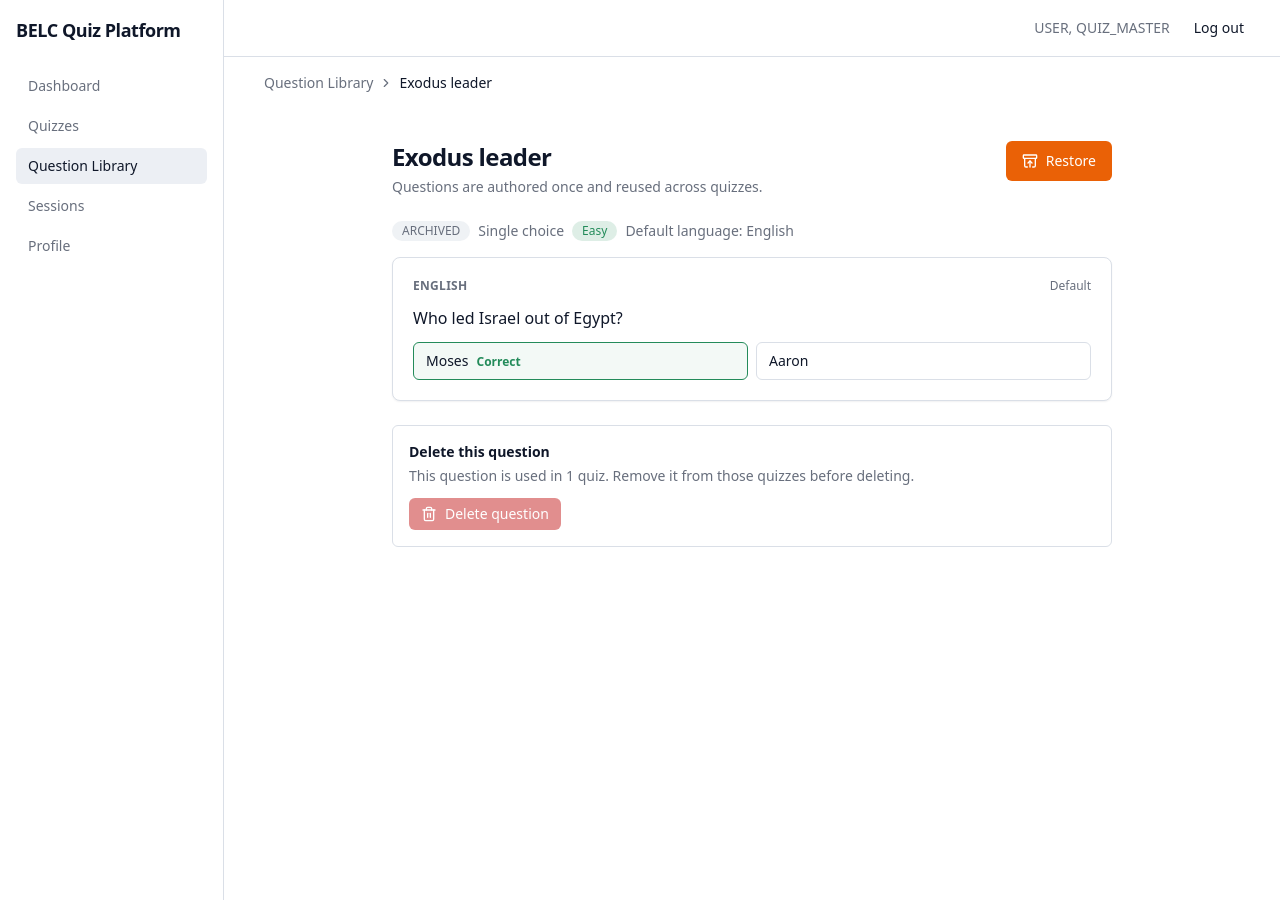
it: QuestionDetailPage › restores an archived question in place — same id, no copy
Click the button "Restore": (1059, 161) [1006,141,1112,181]
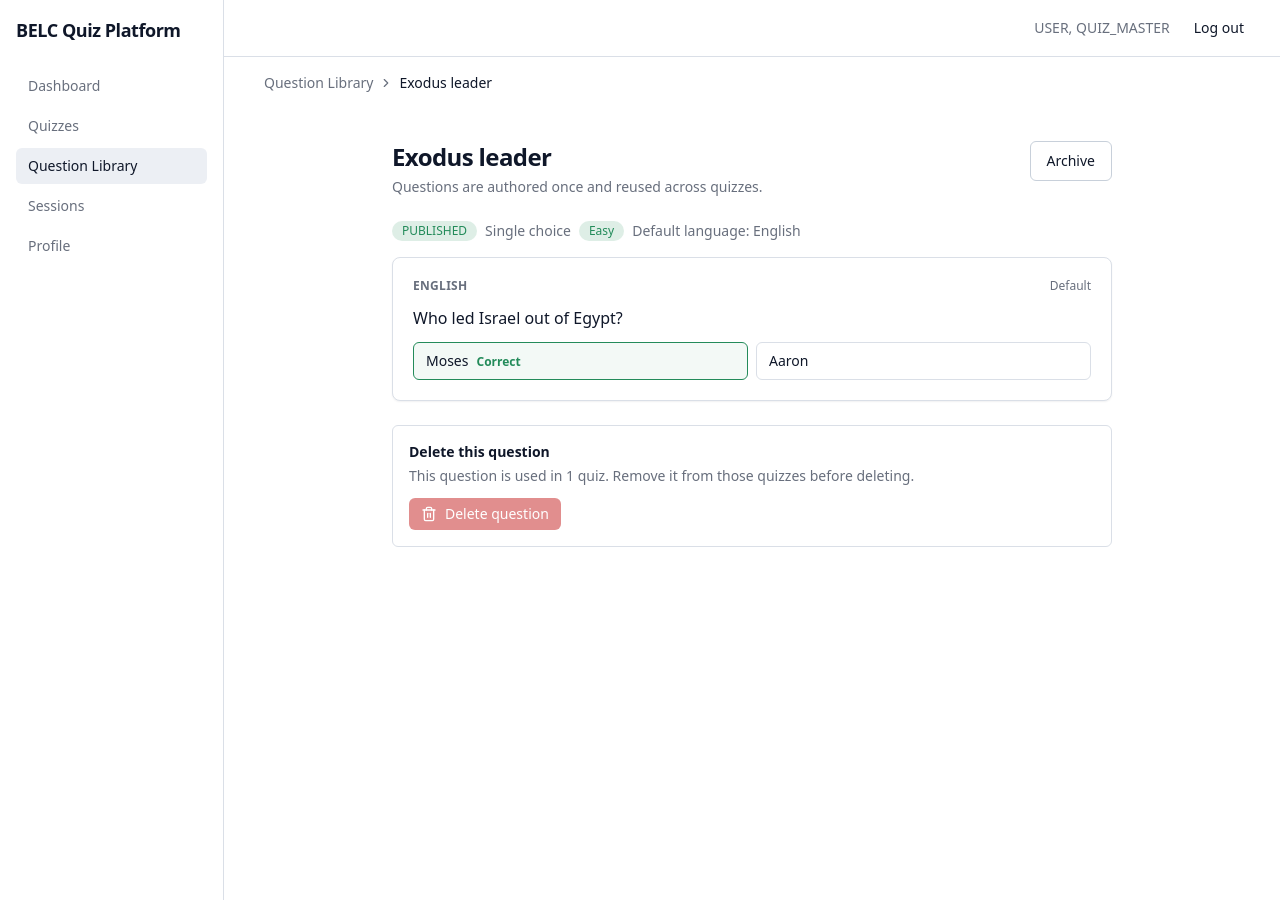
Expected: the text "PUBLISHED" is shown, [392,221,477,241]
Expected: the button "Restore" is gone
